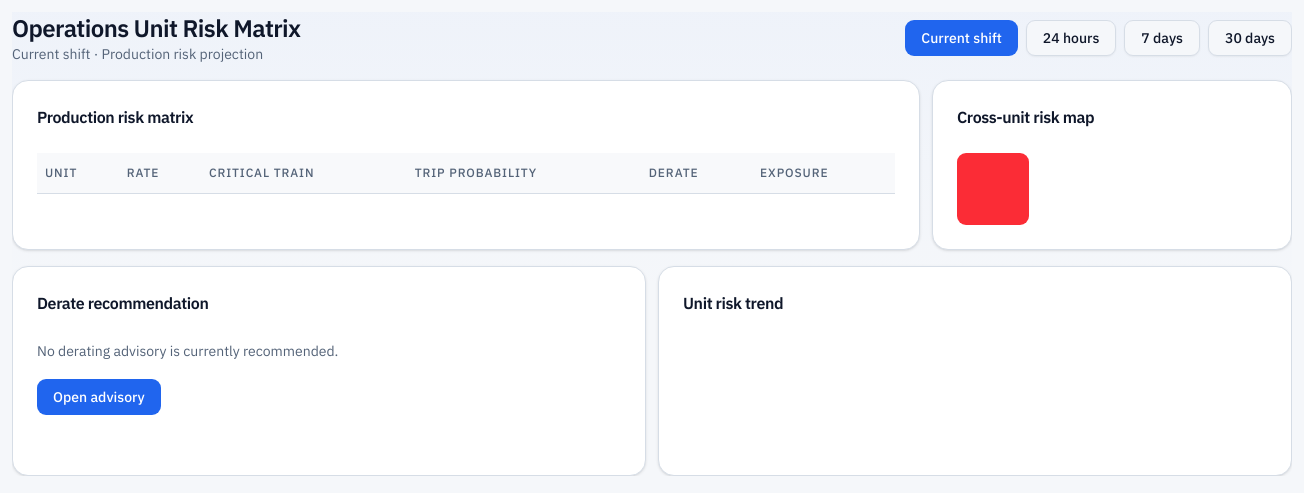
workspace branch coverage › switches the unit risk horizon
Step 1. Click the button "7 days" → coordinates (1162, 38), box [1124,20,1200,56]
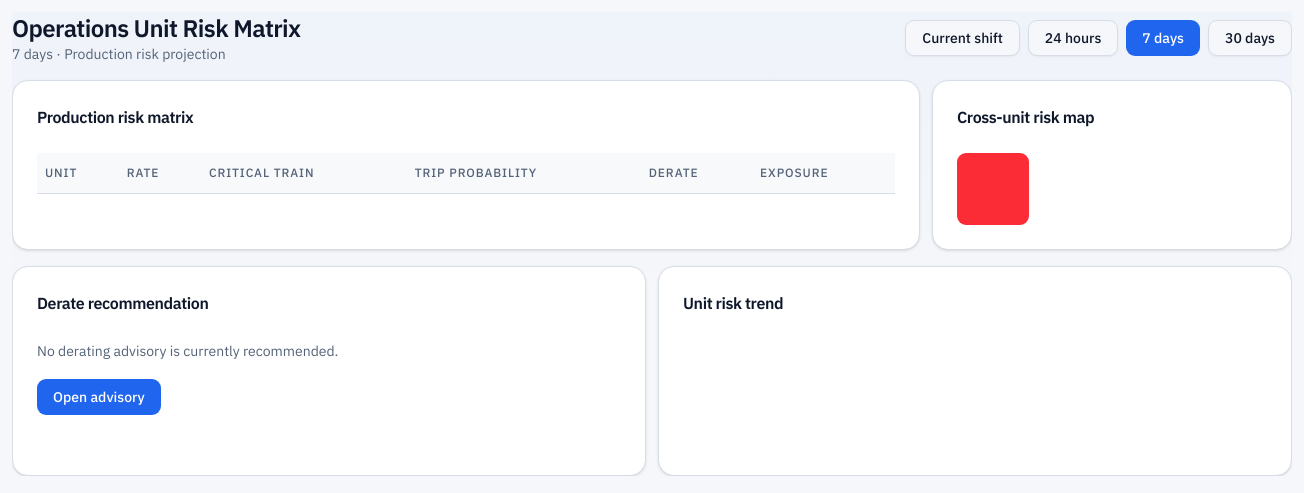
Step 2. Click the button "30 days" → coordinates (1250, 38), box [1208,20,1292,56]
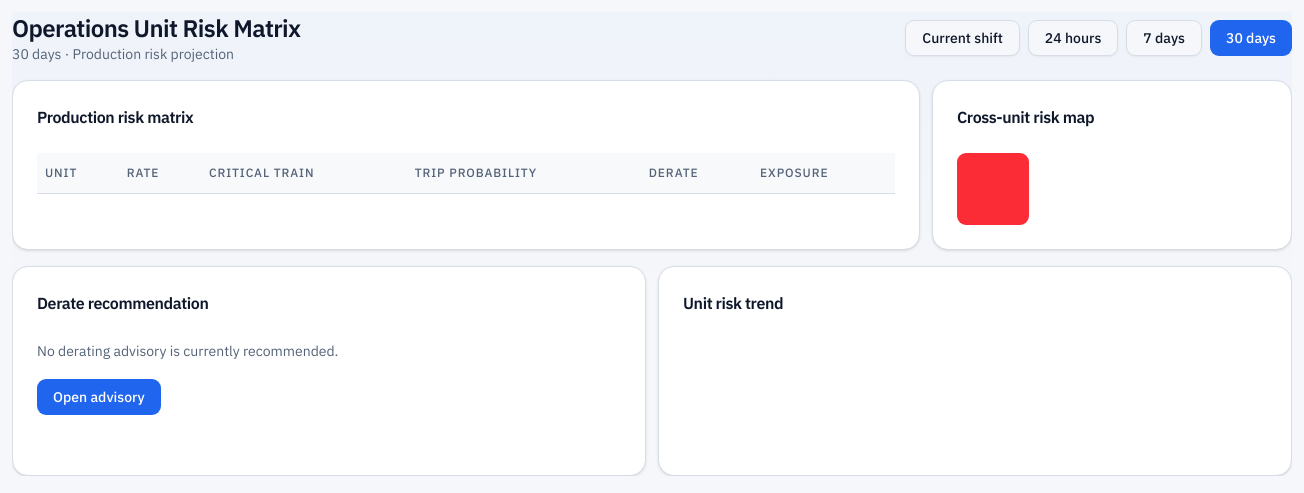
Expected: the text "30 days · Production risk projection" is shown, [12,45,234,63]
